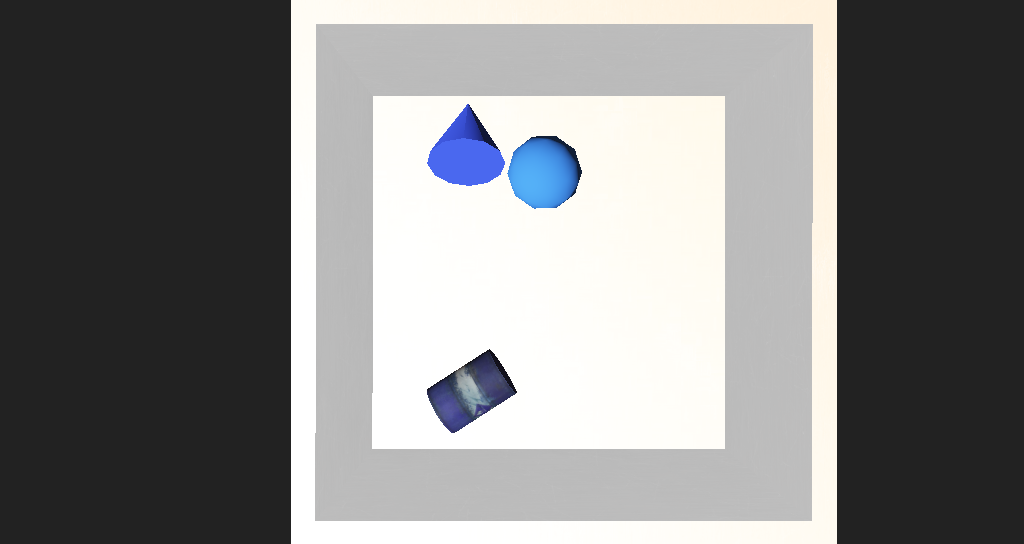cone: (397, 310, 478, 367)
cylinder: (397, 148, 465, 215)
sphere: (465, 188, 532, 231)
